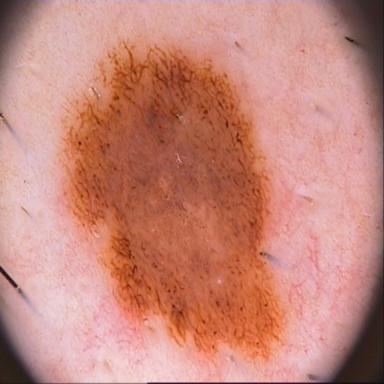nevus: (64, 43, 284, 359)
